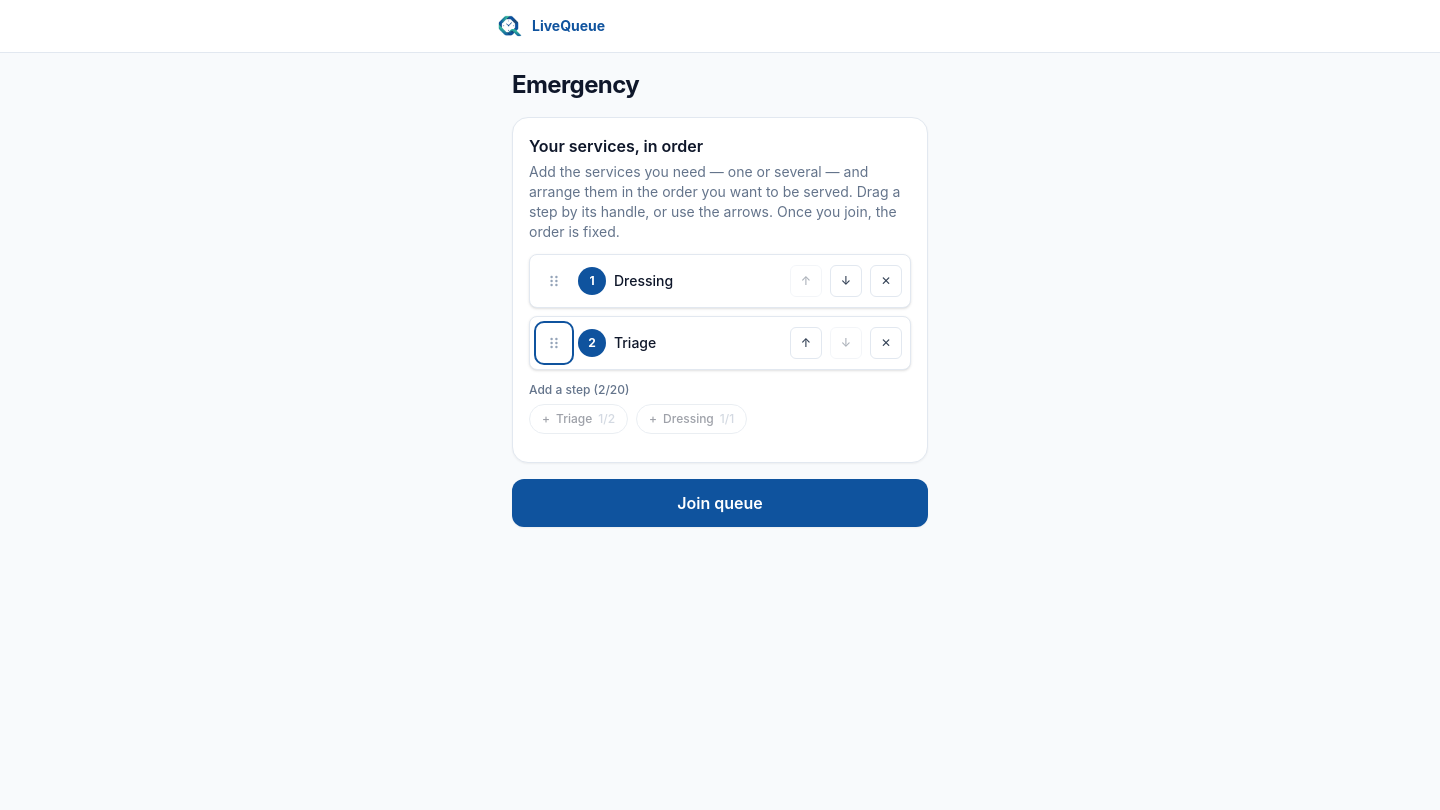
Test: ordered journey (ADR-070) › starts from the recommended order, lets the person rearrange it, and sends that order
This screenshot has width=1440, height=810.
Expected: the heading "Emergency" is shown, [512,70,639,99]
Press Arrowup
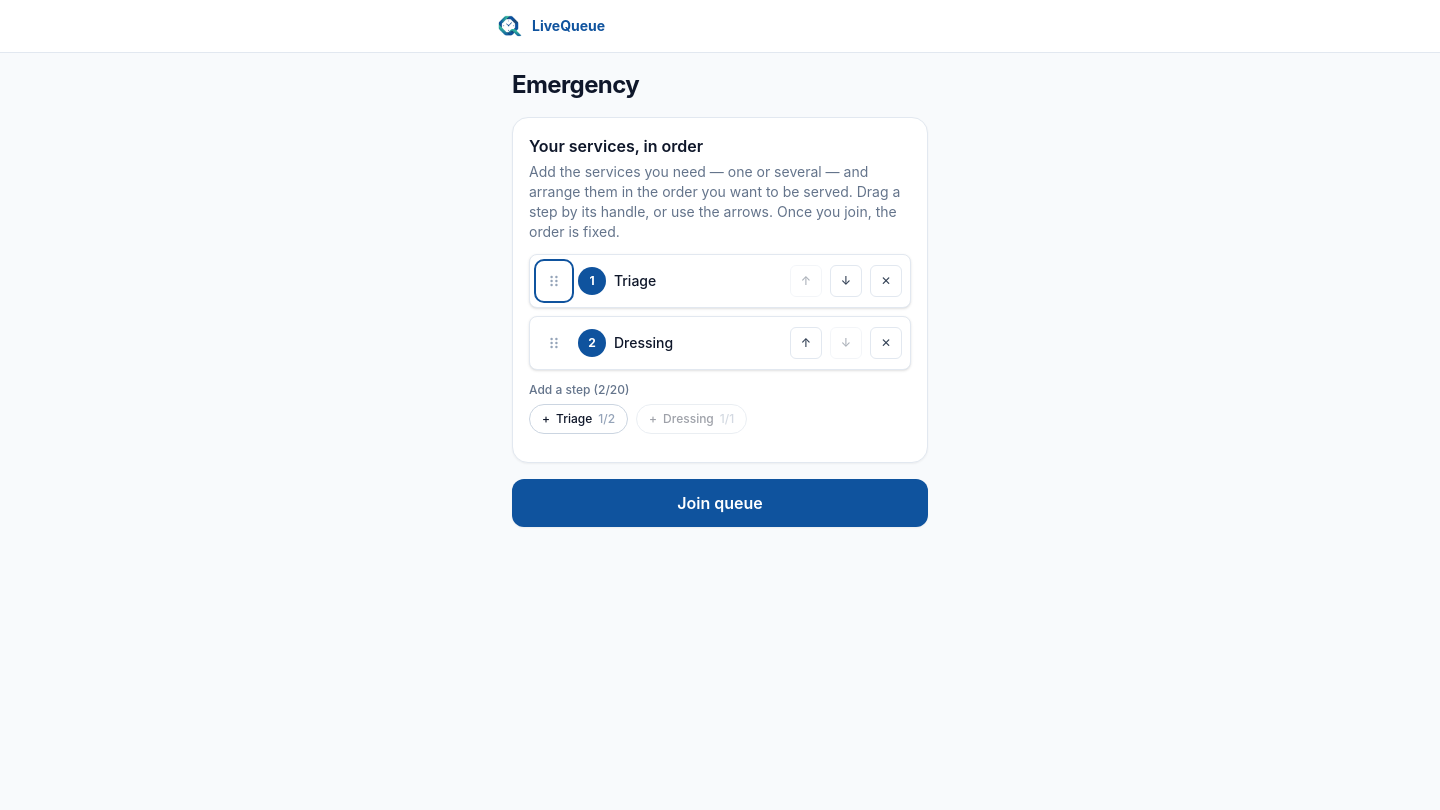
Expected: the button with aria-label "Add Dressing" is disabled, [636,404,747,434]
Click the button with aria-label "Add Triage": (579, 419) [529,404,628,434]
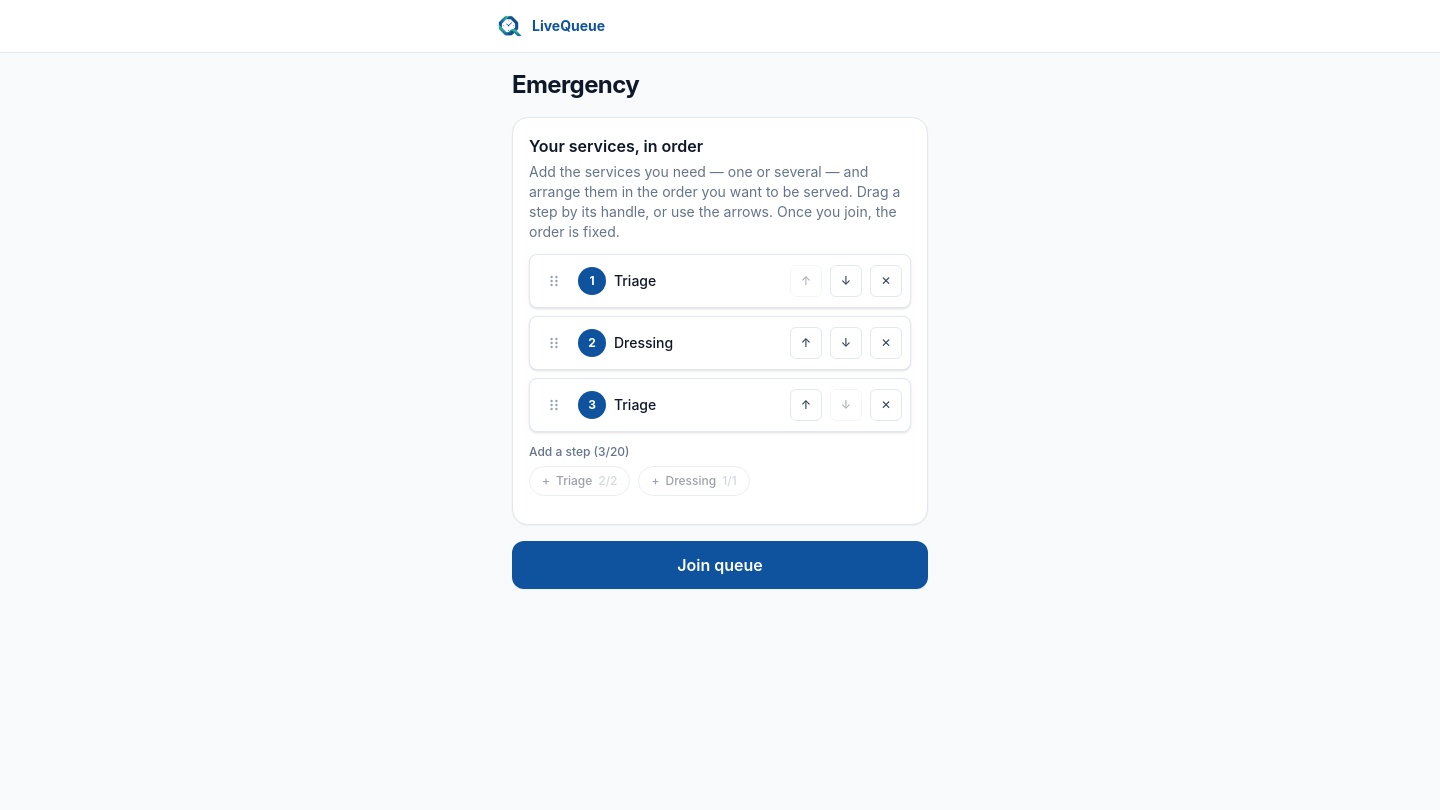
Click the button "Join queue": (720, 565) [512,541,928,589]
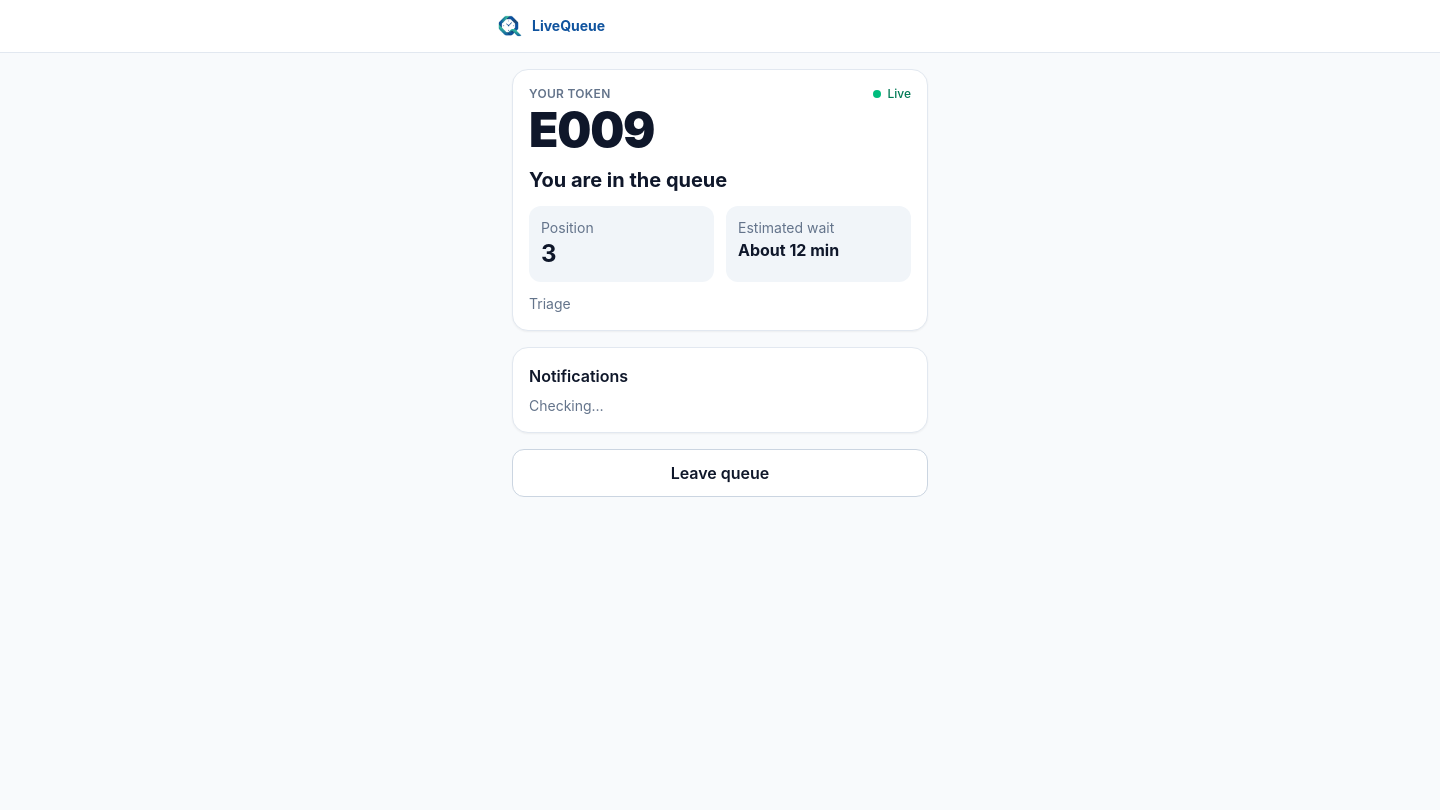
Now the text "E009" is shown, box [529,100,654,159]
